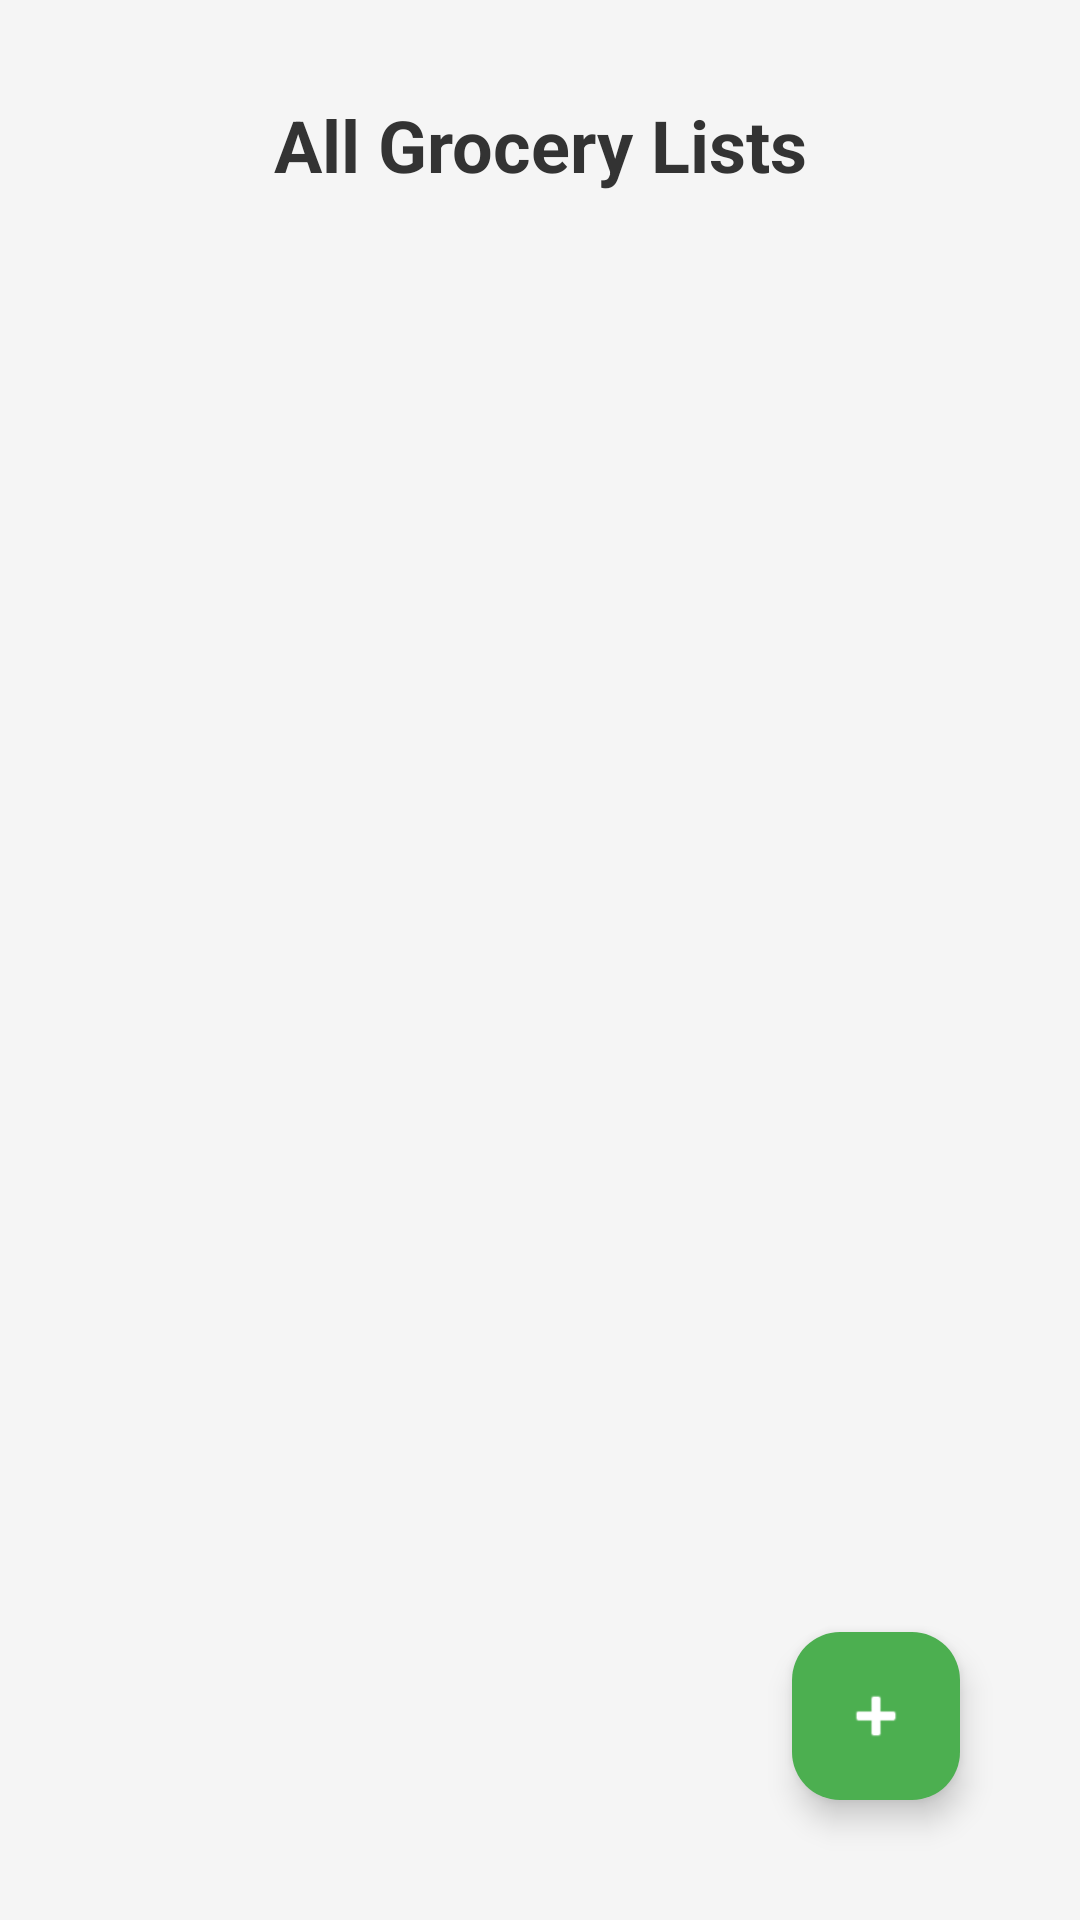

Where icons sit on this 1080px x 1920px app screen, as region(x1, y1, x2, y2):
add: region(792, 1632, 960, 1800)
